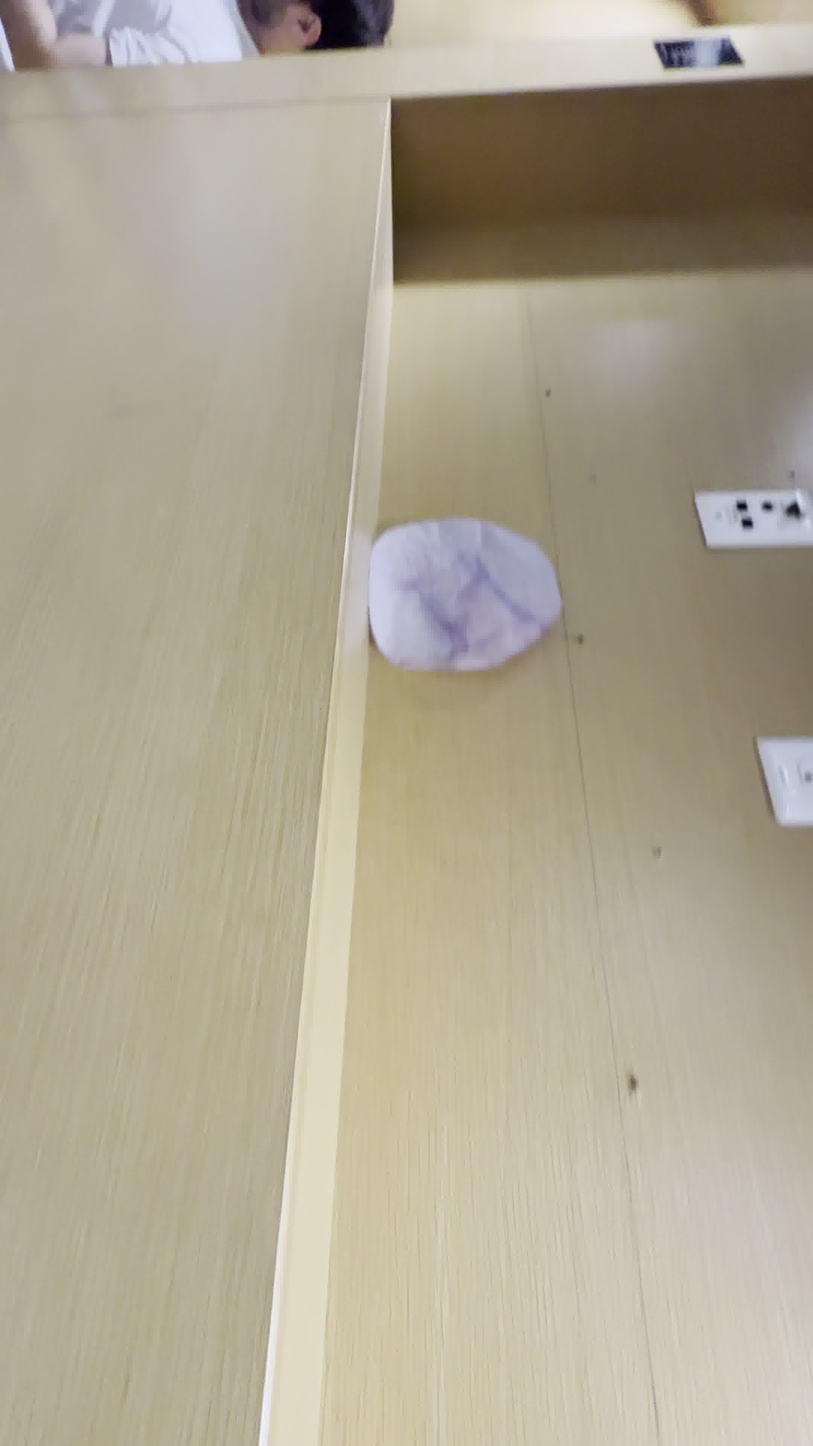Target: (371, 516, 564, 667)
